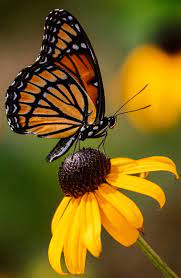butterfly: (2, 5, 153, 151)
flower: (45, 151, 173, 272)
